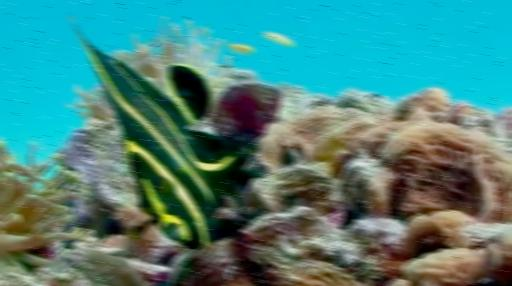Fish: (73, 23, 255, 247)
